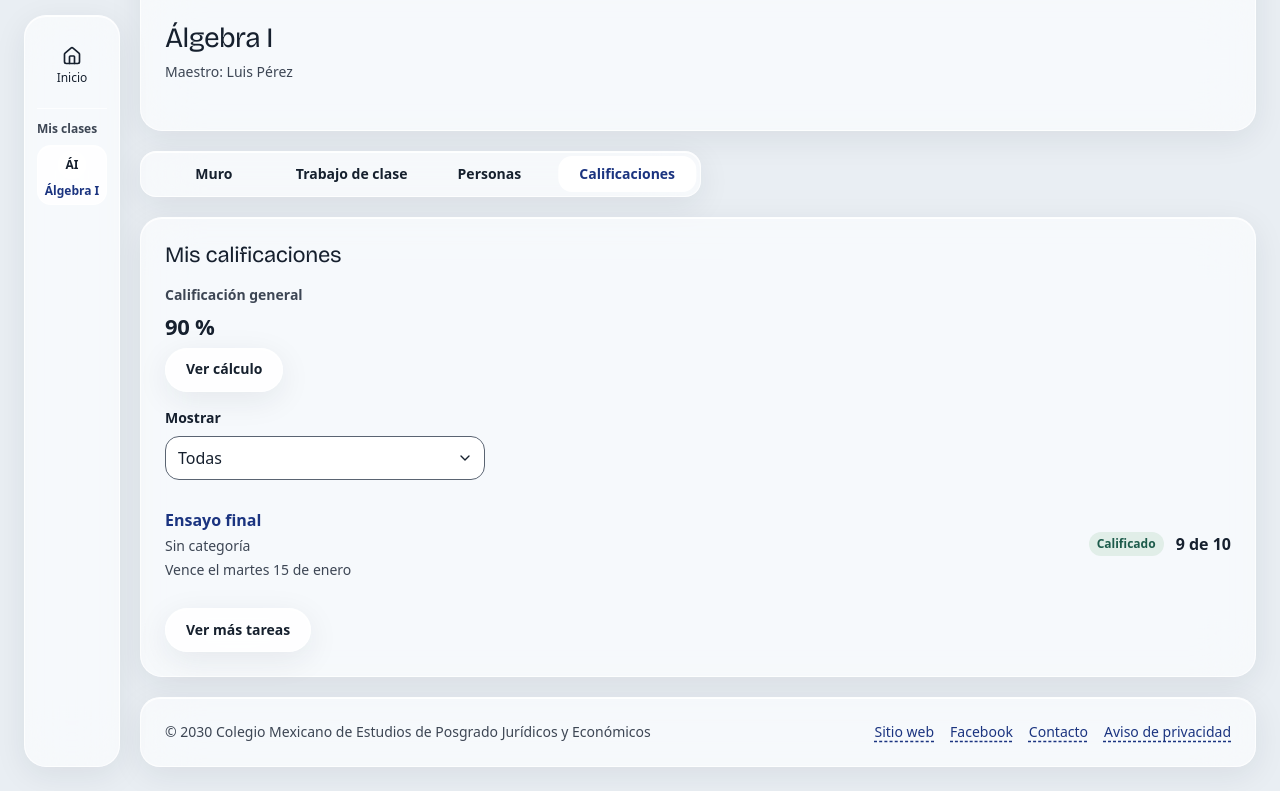
Test: Pulsar la sección activa en StrictMode (main.tsx monta la app así) › CAL-T-254: «Mis calificaciones» en StrictMode con el 400 de «Ver más tareas»: pulsar la sección pide la primera página una sola vez, sin aviso y con el foco en
(page scrolled)
Click the button "Ver más tareas". click: (238, 630)
box: [165,608,311,652]
(page scrolled)
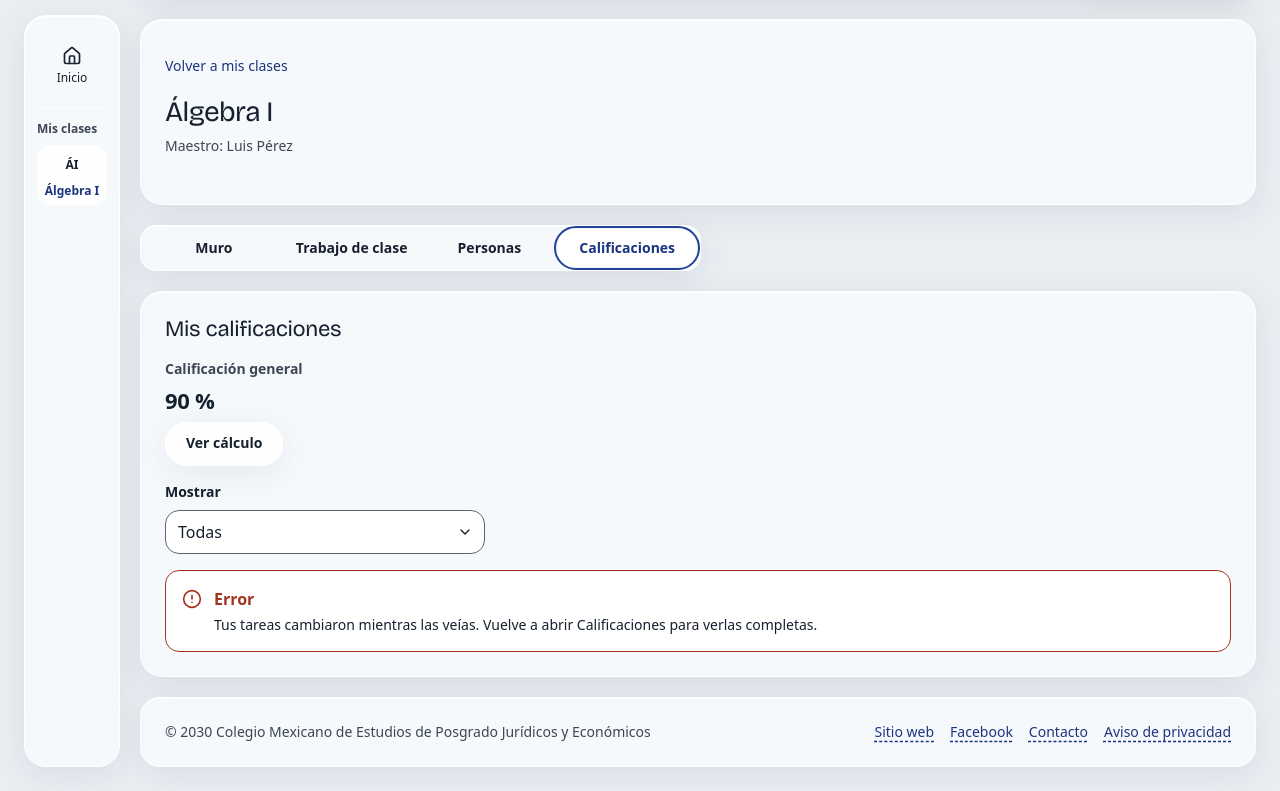
Check: the text "Tus tareas cambiaron mientras las veías. Vuelve a abrir Calificaciones para verlas completas." is shown, box [214,615,817,634]
Click the link "Calificaciones". click: (627, 248)
box: [579,238,675,257]
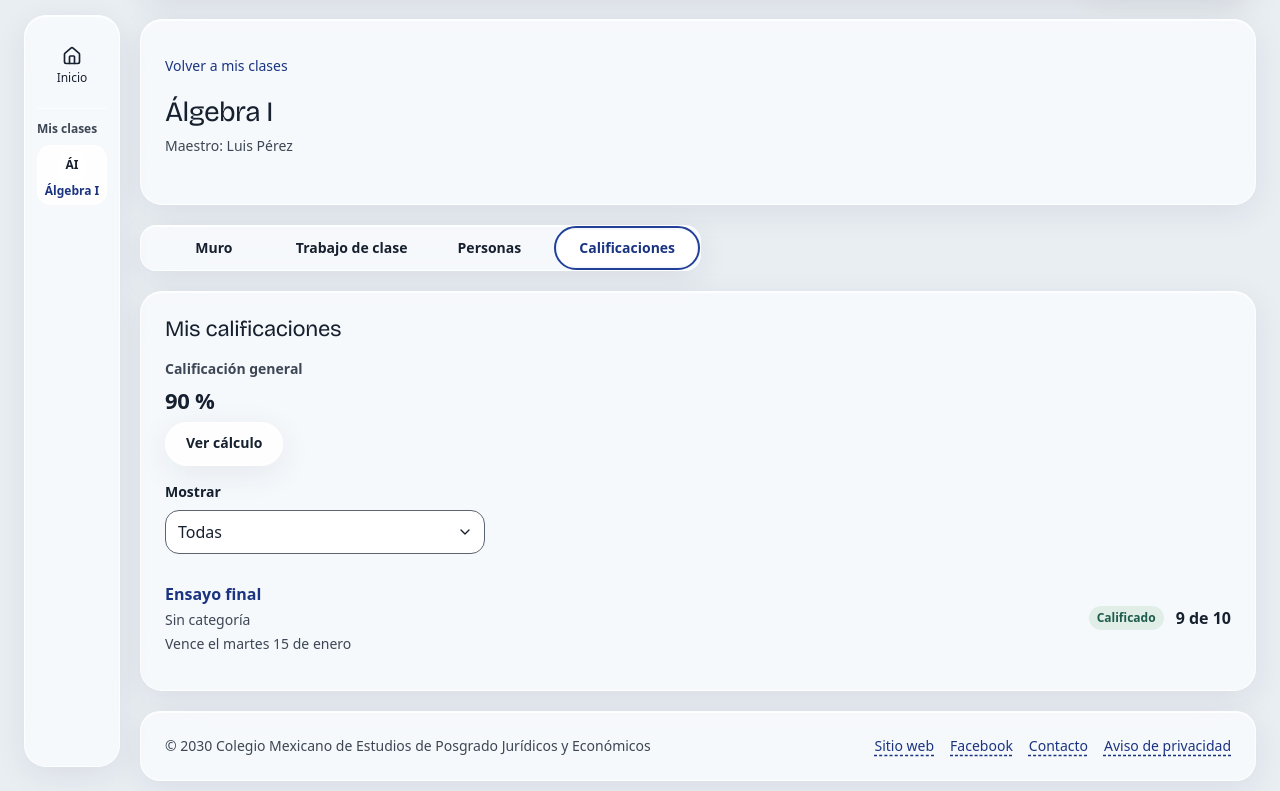
Check: the button "Ver más tareas" is not shown
Check: the text "Tus tareas cambiaron mientras las veías. Vuelve a abrir Calificaciones para verlas completas." is gone
Check: the link "Ensayo final" is shown, box [165,583,261,605]
